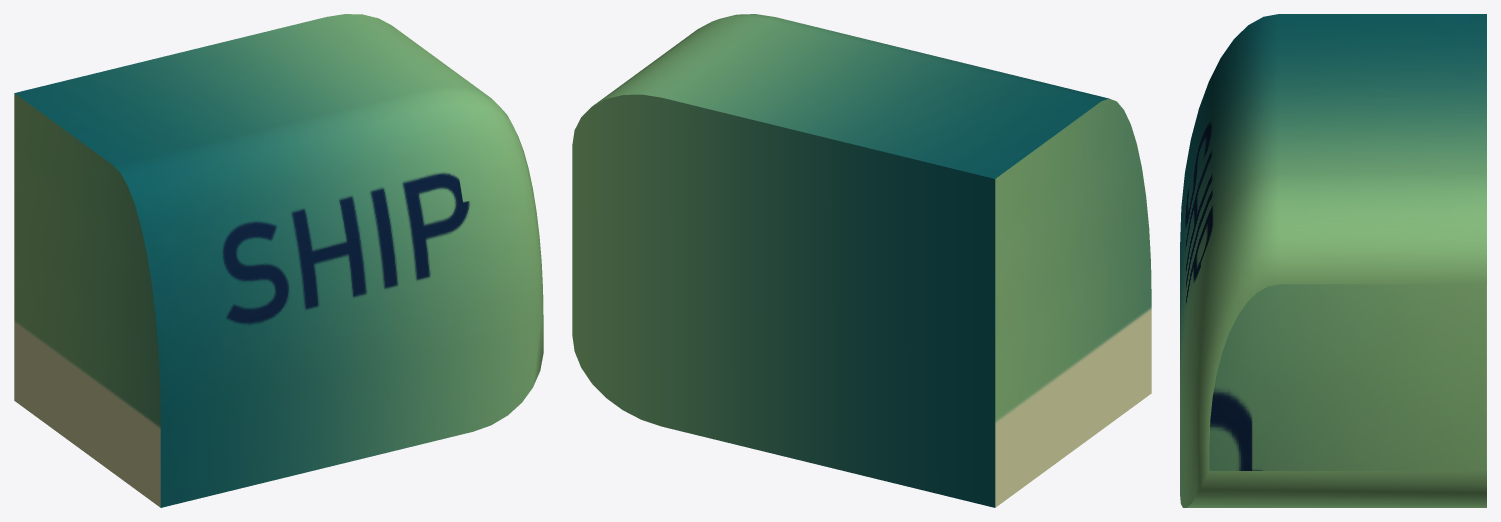
File: ShipButton.fbx
3 renders of one model, left to right at view 1: azimuth 30°, elevation 25°; view 2: azimuth 150°, elevation 25°; view 3: azimuth 270°, elevation 25°, orthographic. The views are drawn at different scales.
Visible parts, largest first — view 1: ShipButton; view 2: ShipButton; view 3: ShipButton.
Boxes of the visible parts, x1=… form: ShipButton: x1=14, y1=14, x2=543, y2=507; ShipButton: x1=572, y1=14, x2=1151, y2=507; ShipButton: x1=1180, y1=14, x2=1486, y2=507.
Bounding box in the file's own units: 131 × 97.18 × 83.76.
